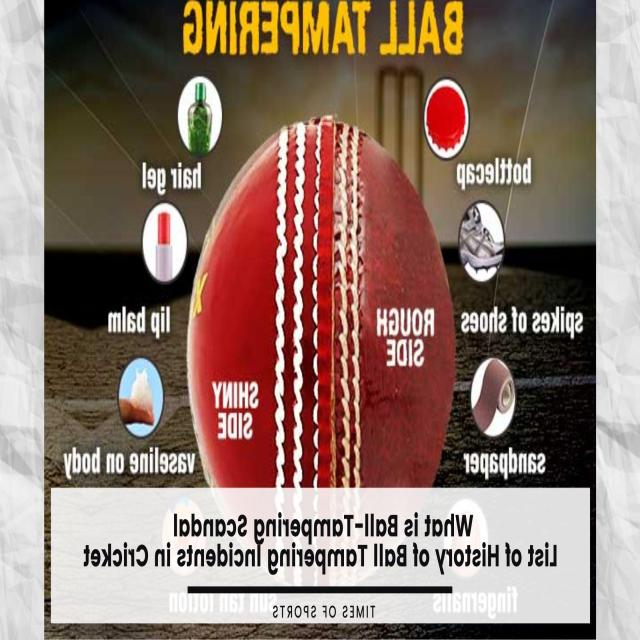ball: (184, 117, 454, 486)
